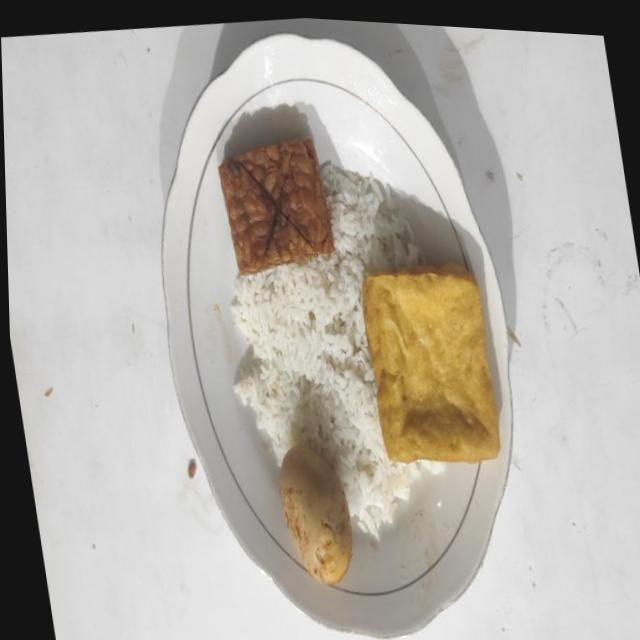nasi_putih: (231, 164, 420, 538)
tahu_goreng: (362, 264, 499, 462)
tempe_goreng: (218, 138, 333, 274)
